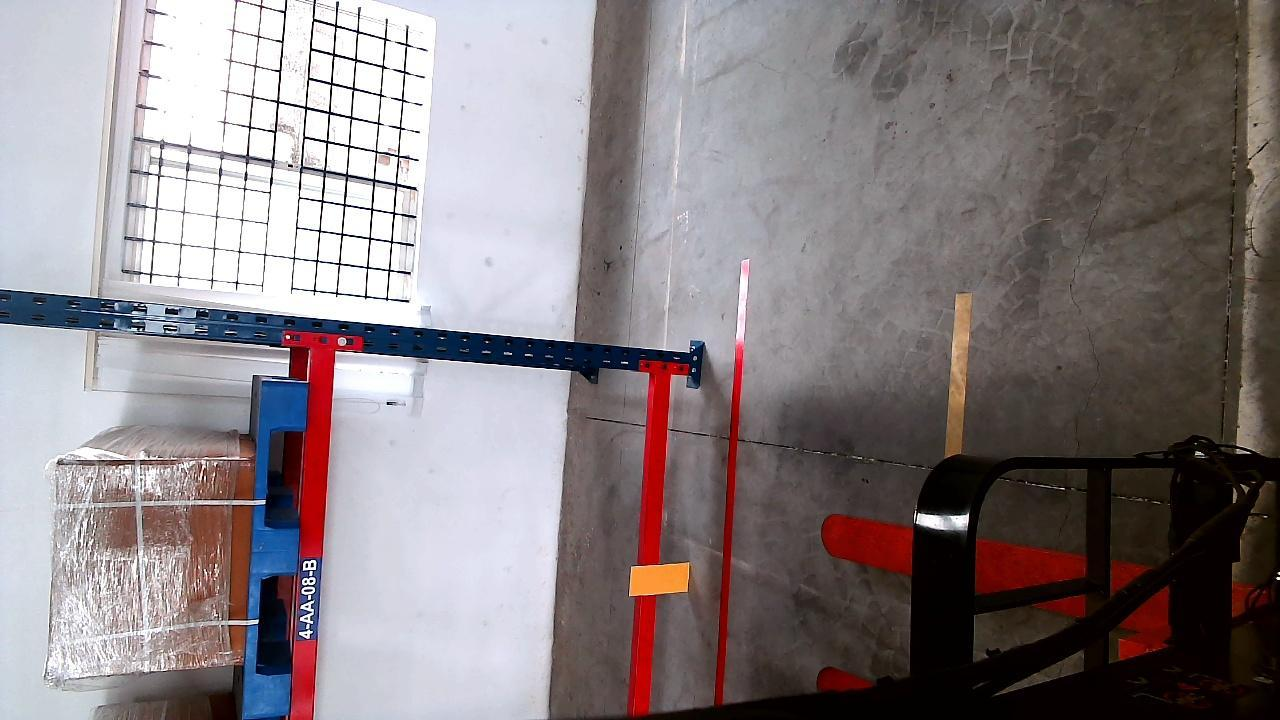red_line: (712, 255, 753, 706)
yellow_line: (945, 293, 971, 459)
